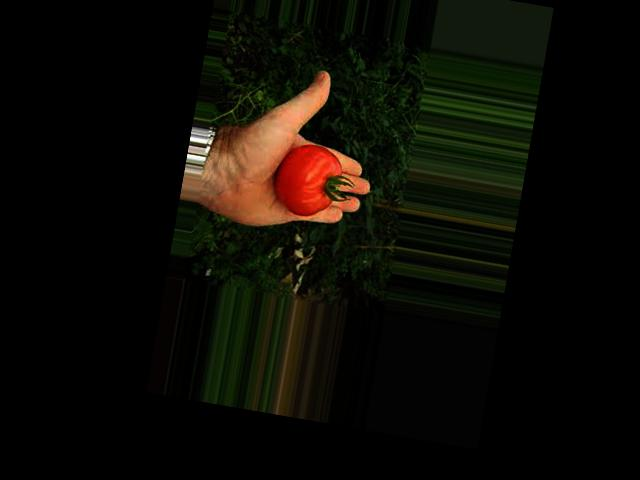tomato: (270, 138, 344, 222)
